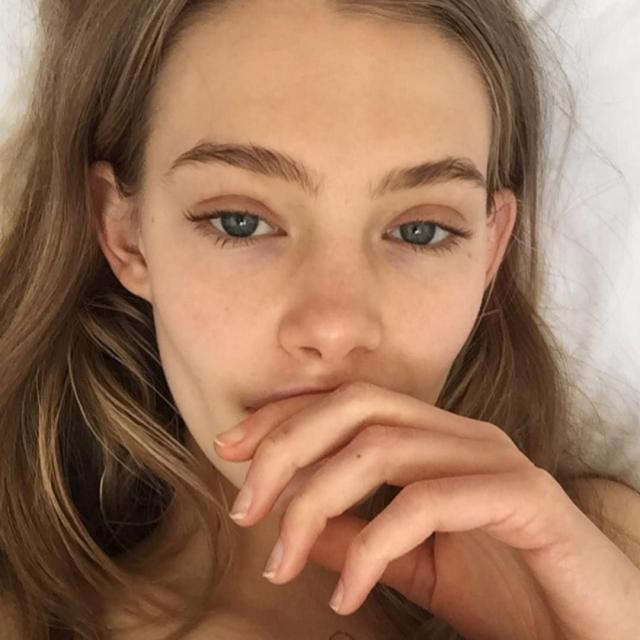earlobe: (118, 252, 156, 304)
eye: (197, 209, 289, 246), (381, 218, 466, 252)
nose: (280, 342, 378, 386)
wholeear: (83, 160, 157, 303)
